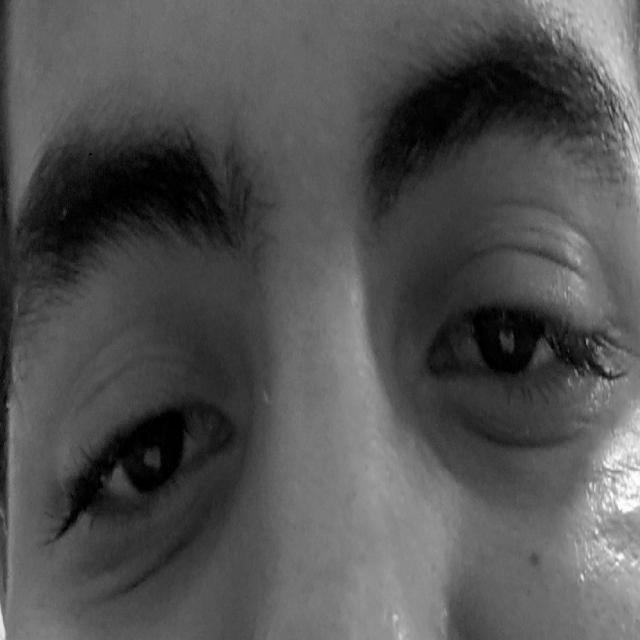real: (26, 177, 618, 571)
